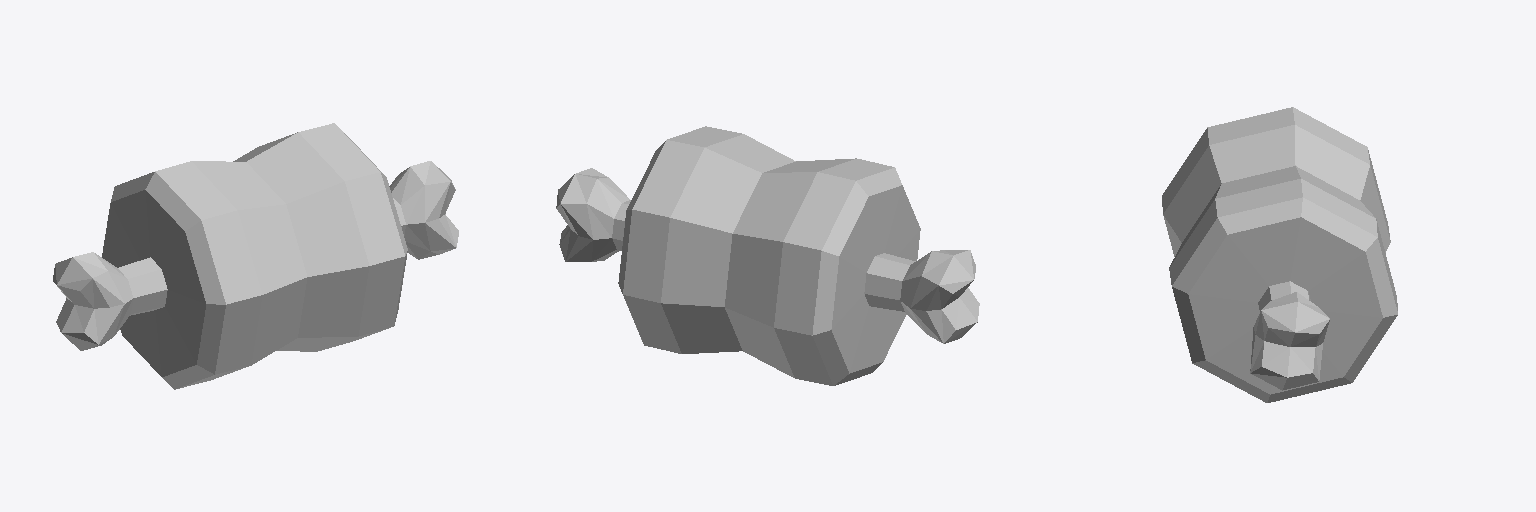
The model's file is Chunk Of Meat.obj.
The picture shows the model from 3 angles: view 1: azimuth 30°, elevation 25°; view 2: azimuth 150°, elevation 25°; view 3: azimuth 270°, elevation 25°; orthographic projection.
Visible parts, largest first — view 1: Inst3D10_RefRep.205; view 2: Inst3D10_RefRep.205; view 3: Inst3D10_RefRep.205.
Boxes of the visible parts, box(x1,y1,x2,y2) form: Inst3D10_RefRep.205: box(53, 123, 458, 389); Inst3D10_RefRep.205: box(556, 126, 979, 385); Inst3D10_RefRep.205: box(1162, 107, 1397, 402).
Bounding box in the file's own units: 5.62 × 2.74 × 2.84.